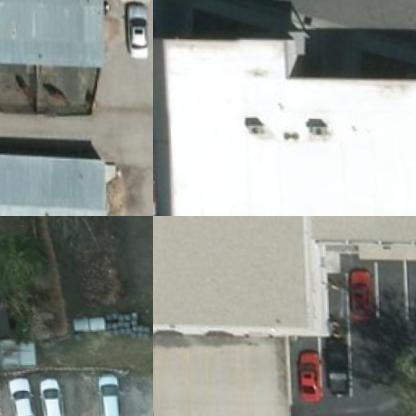car: (318, 338, 349, 396), (116, 2, 148, 57), (289, 346, 318, 400), (342, 264, 369, 317), (34, 370, 61, 415), (90, 371, 117, 415), (6, 372, 28, 415)
